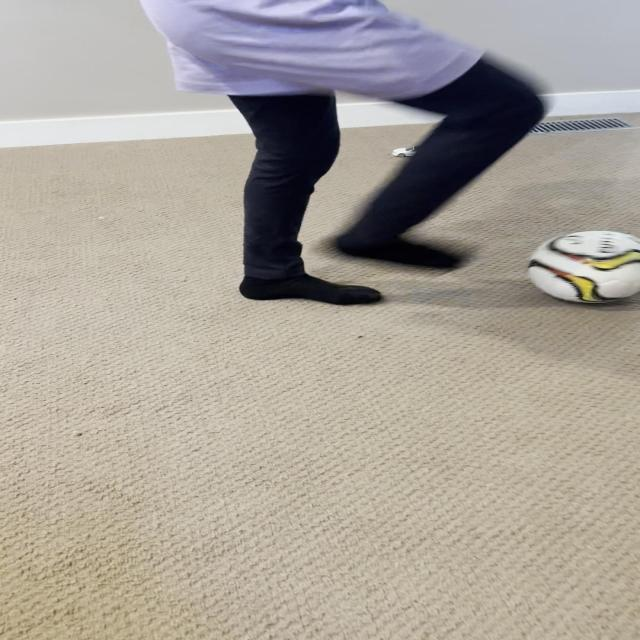Soccer Ball: (527, 230, 640, 304)
